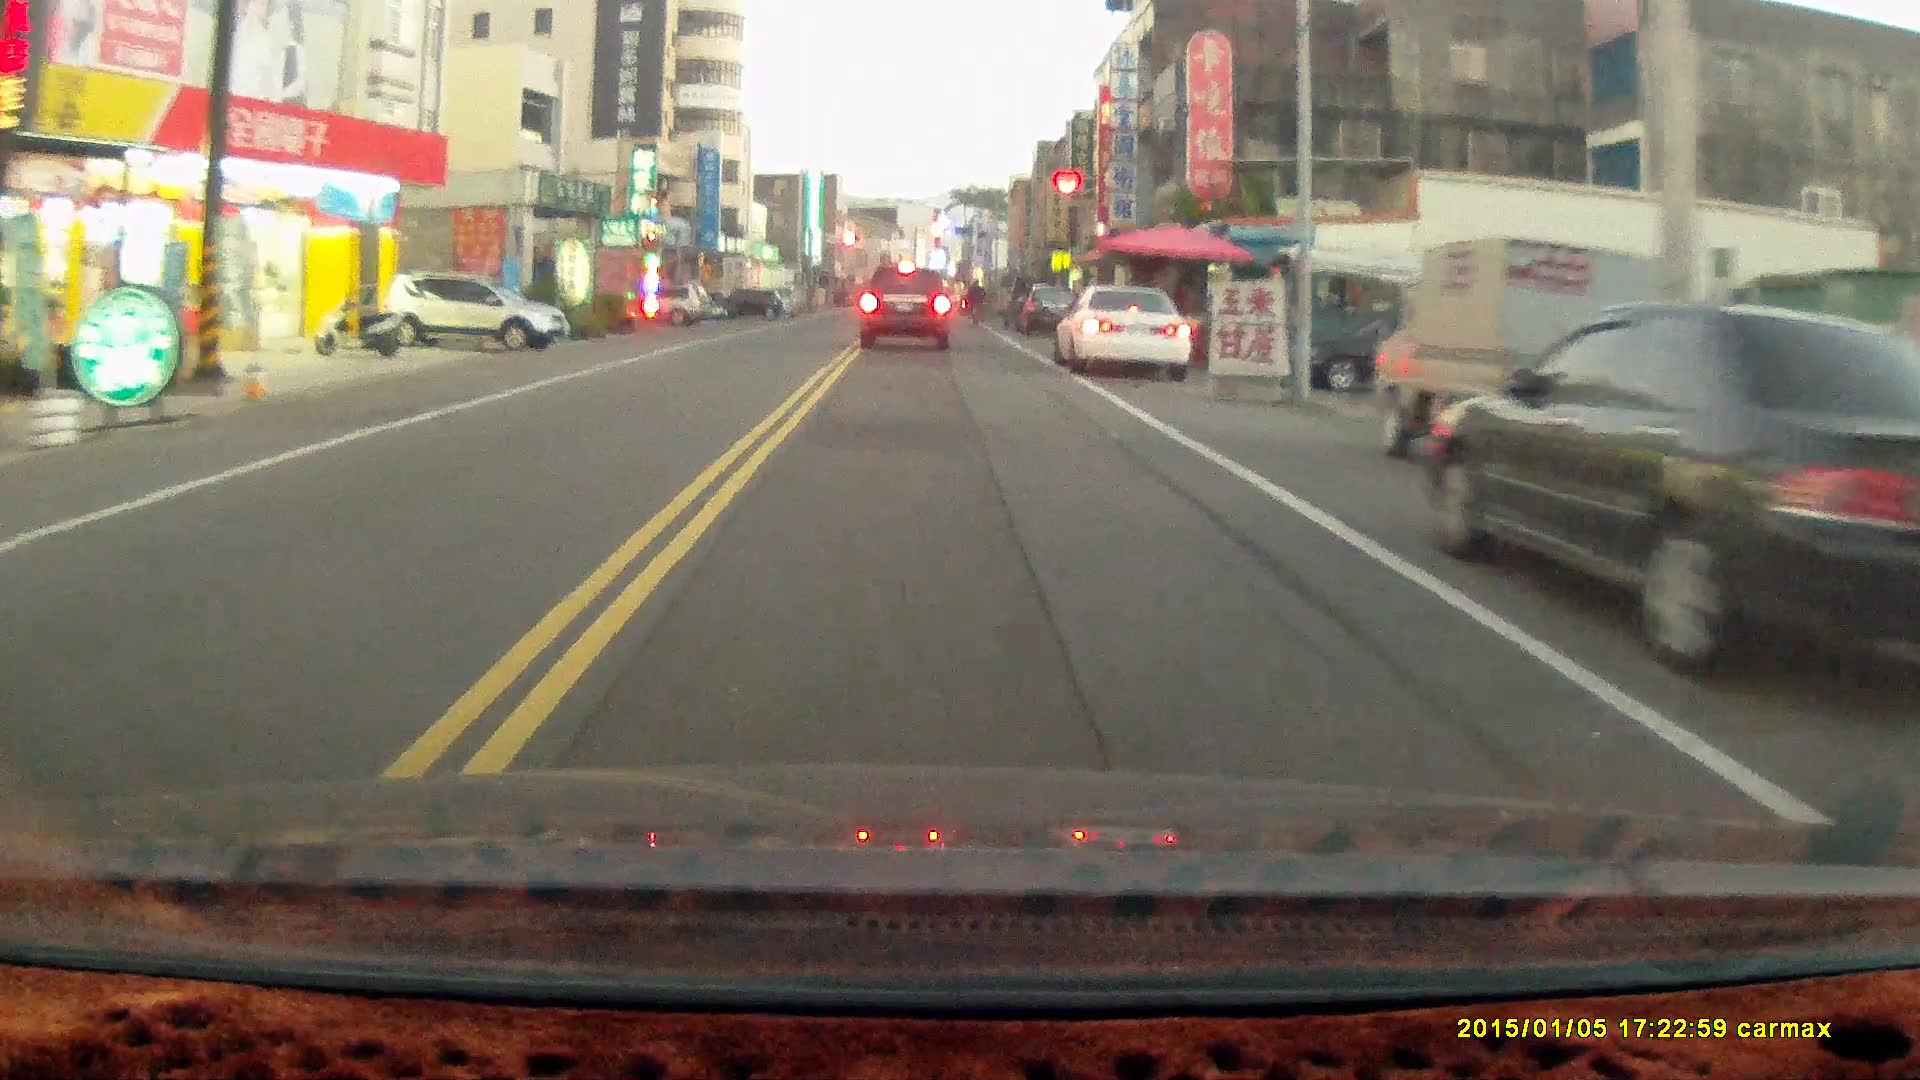vehicle: (1420, 305, 1920, 707), (1382, 245, 1669, 454), (1280, 299, 1542, 396), (375, 274, 564, 357), (1058, 284, 1193, 382), (857, 264, 953, 355)
